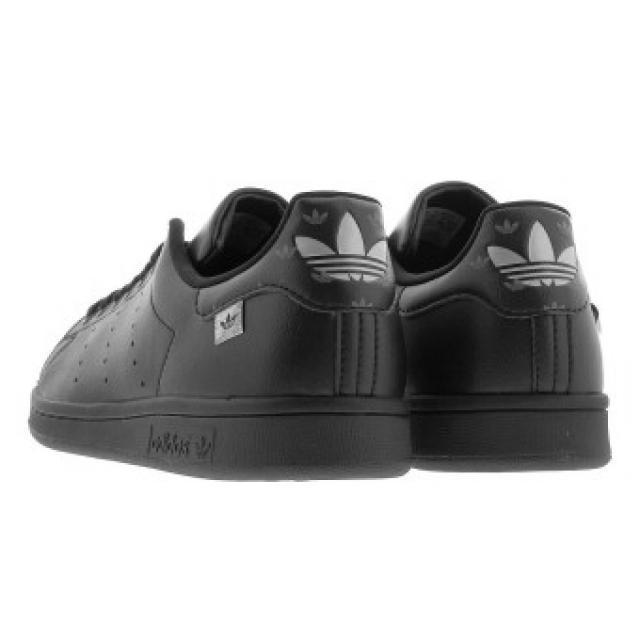Adidas: (288, 200, 406, 296), (480, 213, 586, 298)
